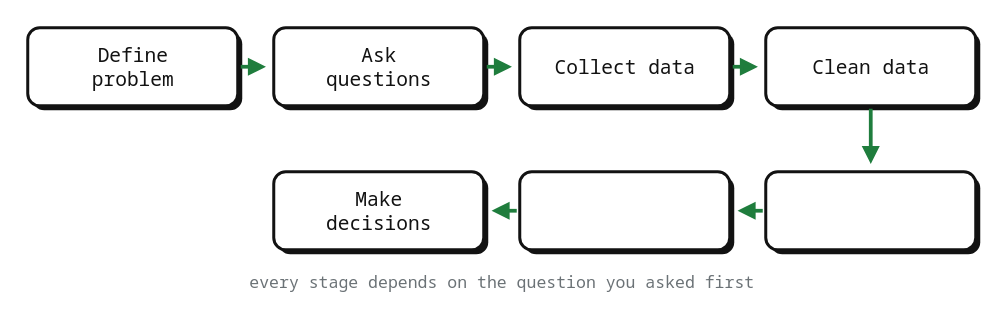
Image size: 1005x317. Some labels were removed from this diagram. Each missing label, with the centre of its shape:
Analyze and visualize: (870,210)
Communicate insights: (624,210)
